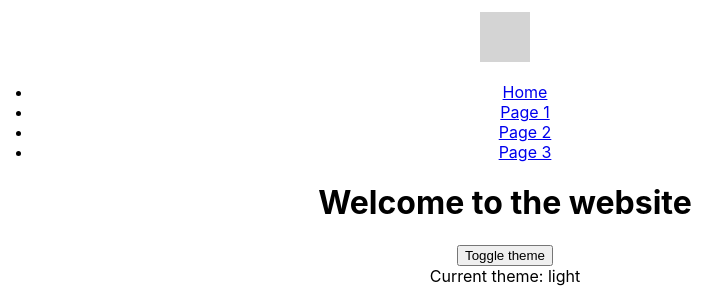
Test: should change the theme on toggle
Expected: the text "Current theme: light" is shown, [430,266,580,286]
Click the button: (505, 255) [457,245,553,266]
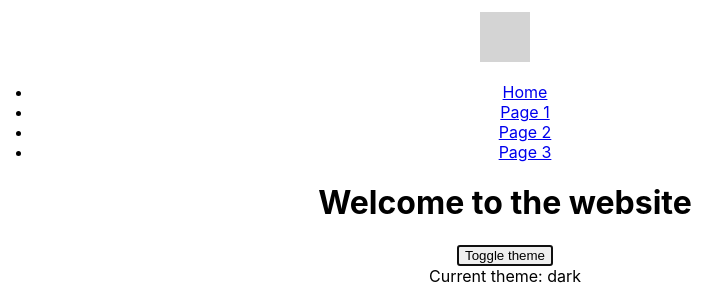
Expected: the text "Current theme: dark" is shown, [429,266,581,286]
Click the button: (505, 255) [457,245,553,266]
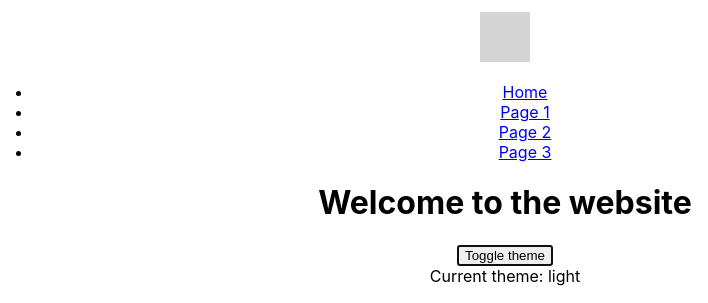
Expected: the text "Current theme: light" is shown, [430,266,580,286]
